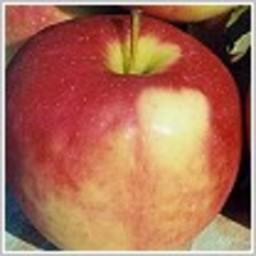apple: (6, 11, 242, 253)
